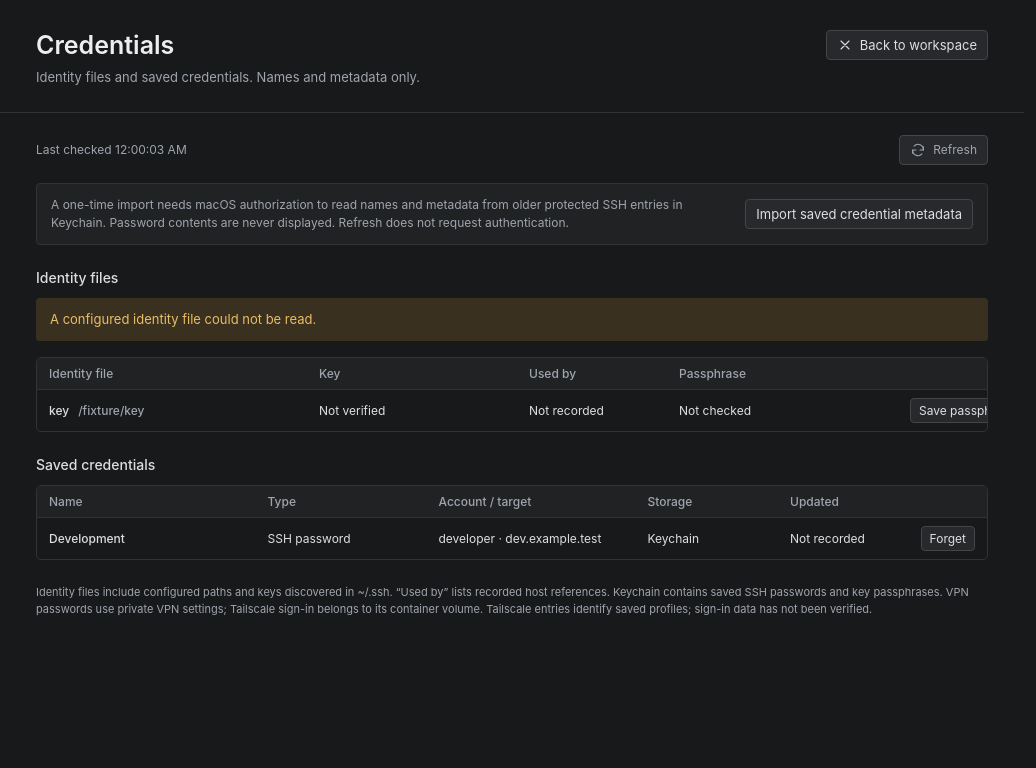
Test: Saved credential metadata import › keeps file discovery warnings separate from metadata import and Keychain status
Expected: the text "A configured identity file could not be read." is shown, [36,298,988,341]
Expected: the text "Some identity files could not be checked." is not shown
Click the button "Refresh": (944, 150) [899,134,988,164]
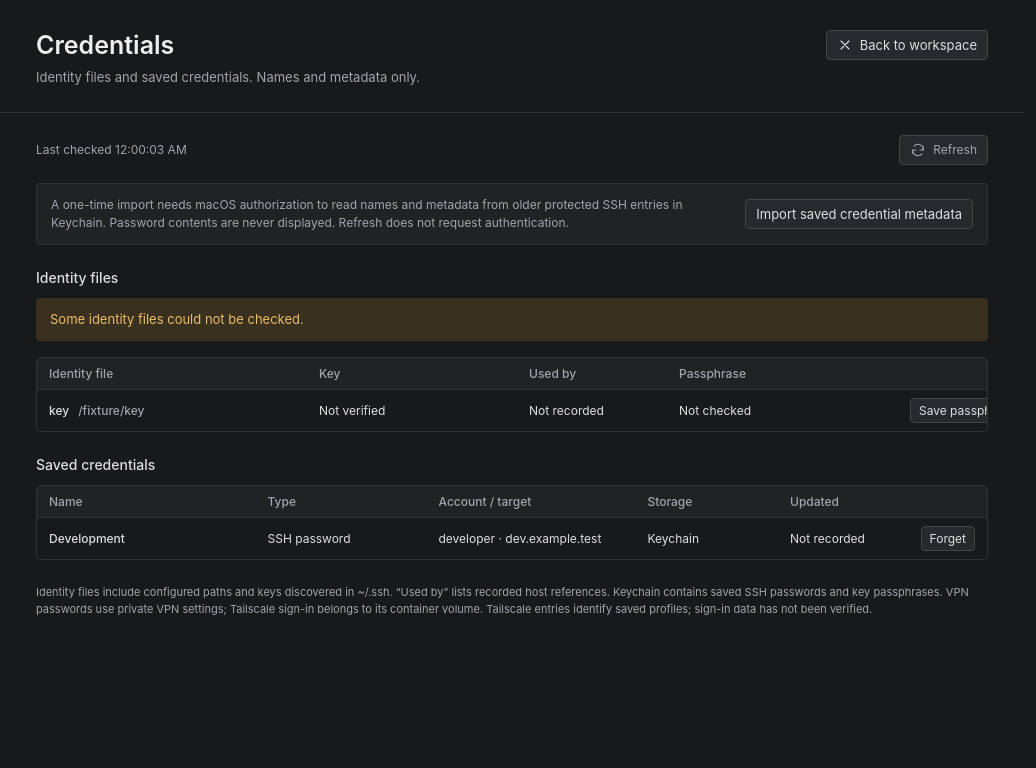
Expected: the text "Some identity files could not be checked." is shown, [36,298,988,341]
